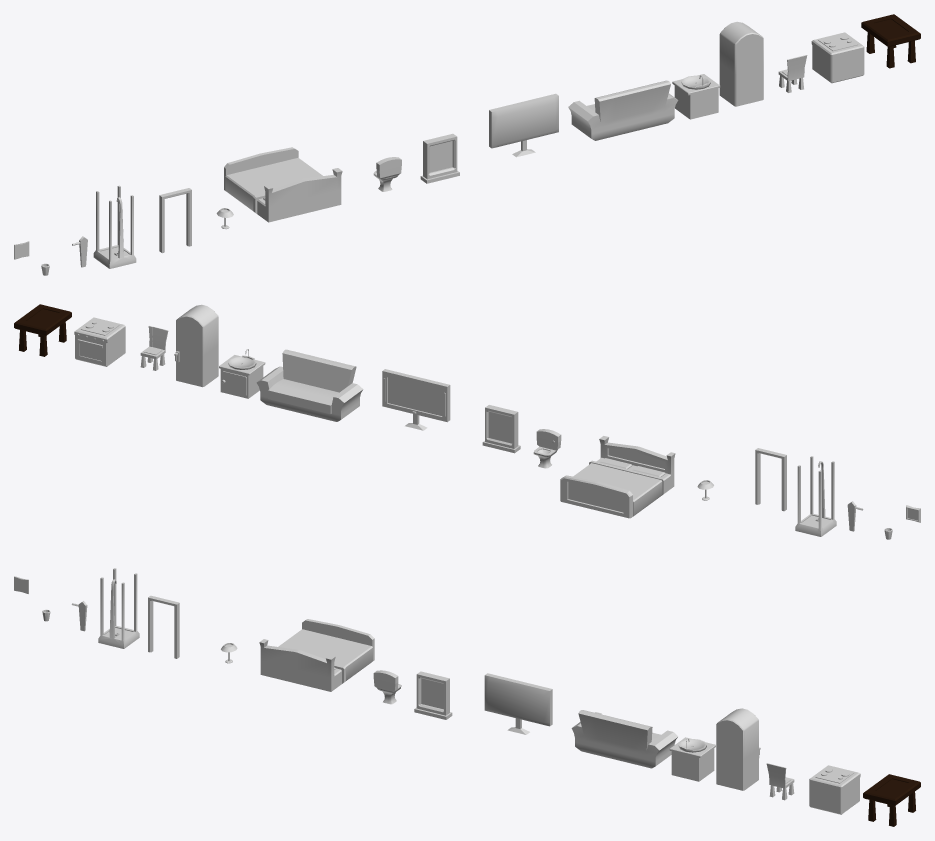
Rendered from Chair.FBX.
3 renders of one model, top to bottom at view 1: azimuth 30°, elevation 25°; view 2: azimuth 150°, elevation 25°; view 3: azimuth 330°, elevation 25°, orthographic. The views are drawn at different scales.
Visible parts, largest first — view 1: Bed, Sofa, Fridge, TV, Oven, Table, Shower, Window, Cupboard, DoorFrame, Chair, Toliet; view 2: Bed, Sofa, Fridge, TV, Oven, Shower, Table, Window, Cupboard, DoorFrame, Chair, Toliet; view 3: Bed, Sofa, Fridge, TV, Oven, Shower, Table, Window, Cupboard, DoorFrame, Chair, Toliet.
Boxes of the visible parts, box(x1,y1,x2,y2) form: Bed: box(224, 147, 342, 222); Sofa: box(568, 80, 678, 140); Fridge: box(719, 21, 763, 106); TV: box(489, 93, 558, 157); Oven: box(811, 32, 864, 83); Table: box(861, 14, 920, 68); Shower: box(93, 185, 136, 268); Window: box(420, 133, 459, 183); Cupboard: box(674, 86, 718, 119); DoorFrame: box(159, 188, 191, 253); Chair: box(778, 55, 807, 92); Toliet: box(373, 157, 401, 191); Bed: box(560, 436, 675, 518); Sofa: box(256, 349, 363, 421); Fridge: box(174, 304, 218, 387); TV: box(382, 369, 450, 430); Oven: box(74, 317, 125, 366); Shower: box(795, 456, 836, 536); Table: box(14, 304, 71, 356); Window: box(482, 405, 520, 453); Cupboard: box(220, 366, 263, 398); DoorFrame: box(755, 448, 786, 511); Chair: box(140, 326, 168, 370); Toliet: box(533, 429, 561, 468); Bed: box(259, 619, 374, 691); Sofa: box(571, 710, 678, 768); Fridge: box(716, 708, 760, 790); TV: box(484, 673, 552, 734); Oven: box(809, 765, 860, 814); Shower: box(98, 568, 139, 648); Table: box(863, 774, 920, 826); Window: box(414, 671, 452, 719); Cupboard: box(671, 748, 714, 781); DoorFrame: box(148, 595, 179, 658); Chair: box(766, 763, 794, 800); Toliet: box(373, 670, 401, 704).
Bounding box in the file's own units: 809 × 62.94 × 77.52.
